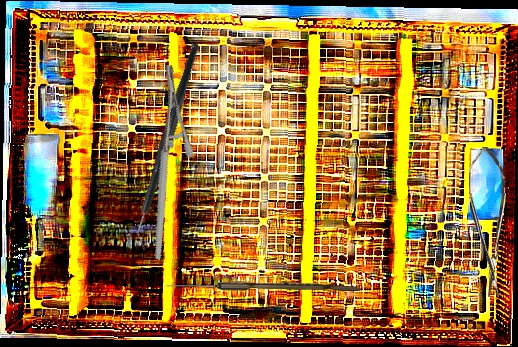Chopper: (74, 41, 264, 252)
Micro Scissor: (468, 146, 508, 298)
Needle Holder: (94, 62, 232, 261)
Surgical Spoon: (166, 282, 360, 291)
